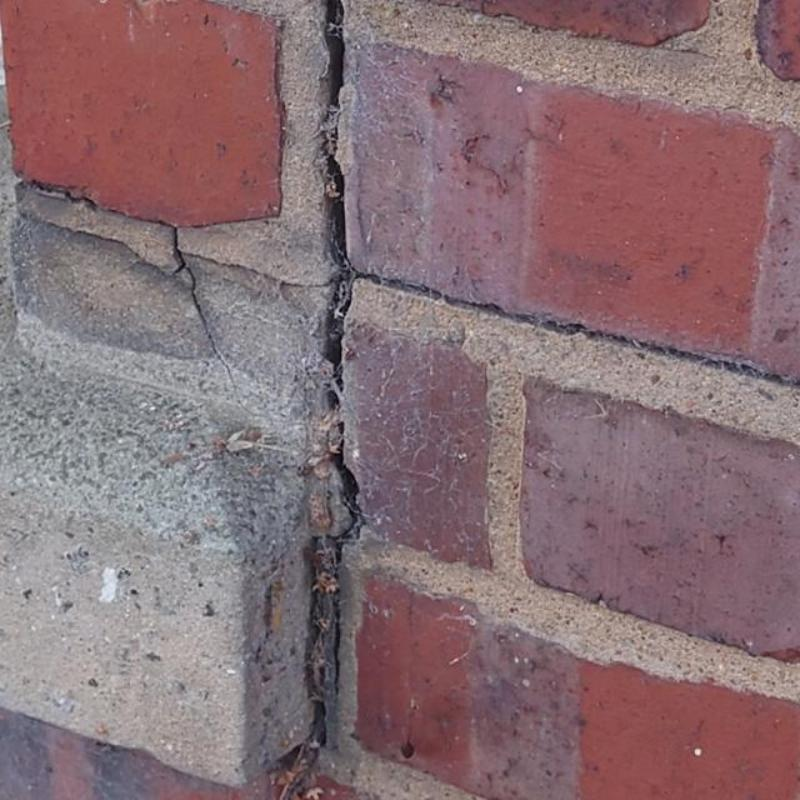pothole: (30, 180, 337, 396), (278, 0, 359, 799), (354, 270, 799, 387)
